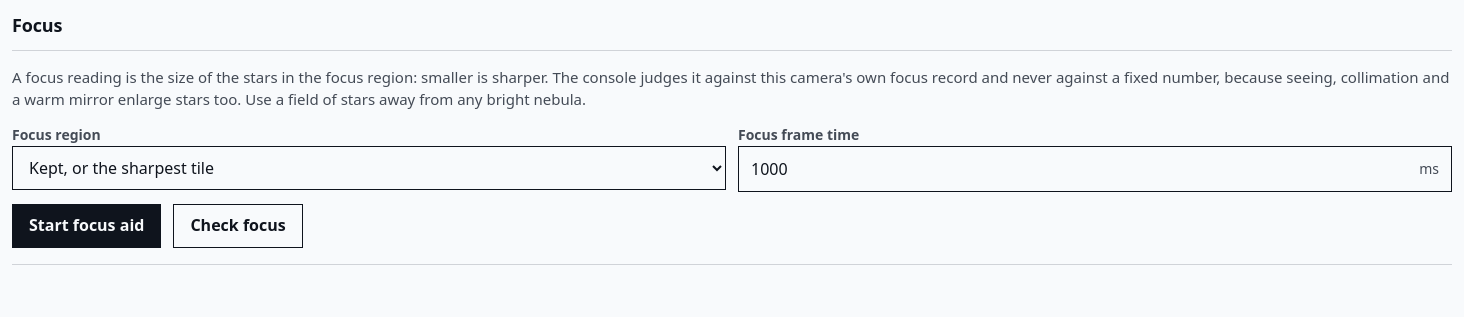
Scenario: the Focus block's requests › shows a refusal as an alert and calls no refresh
This screenshot has width=1464, height=317.
Click the button "Start focus aid" at (87, 226), box [12, 204, 161, 248]
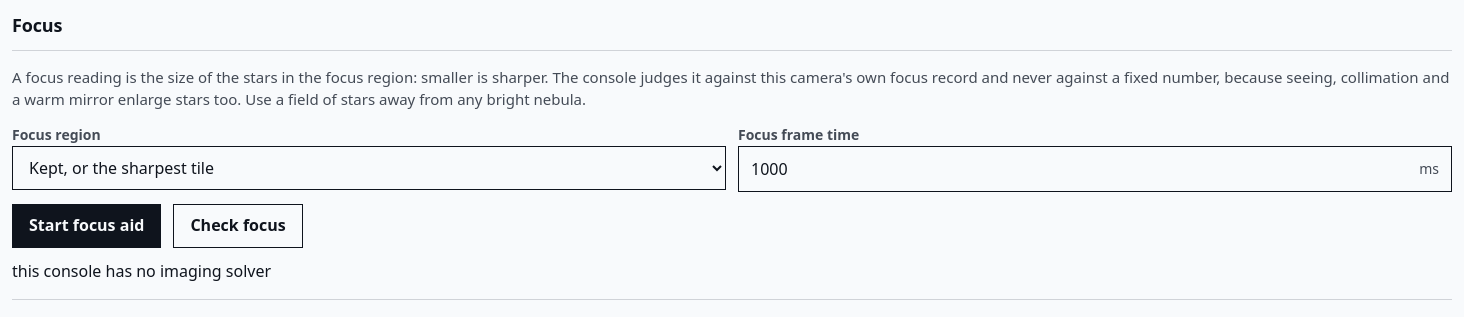
expect the message reads "this console has no imaging solver": met, box [12, 260, 271, 282]
